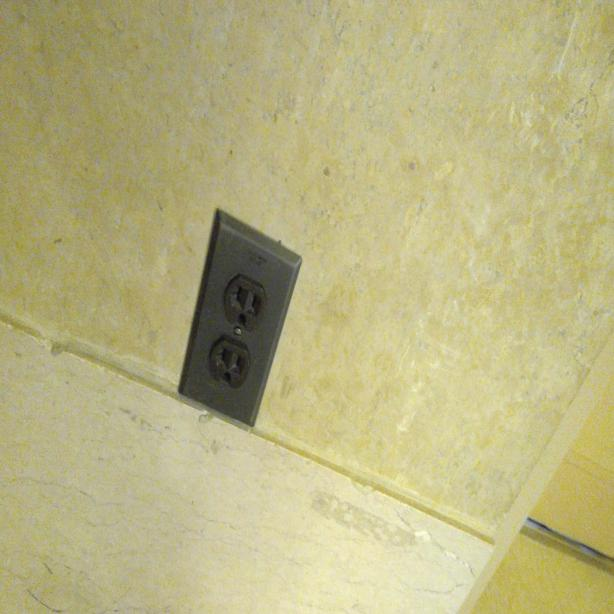typeb: (223, 272, 265, 334), (210, 337, 250, 391)
